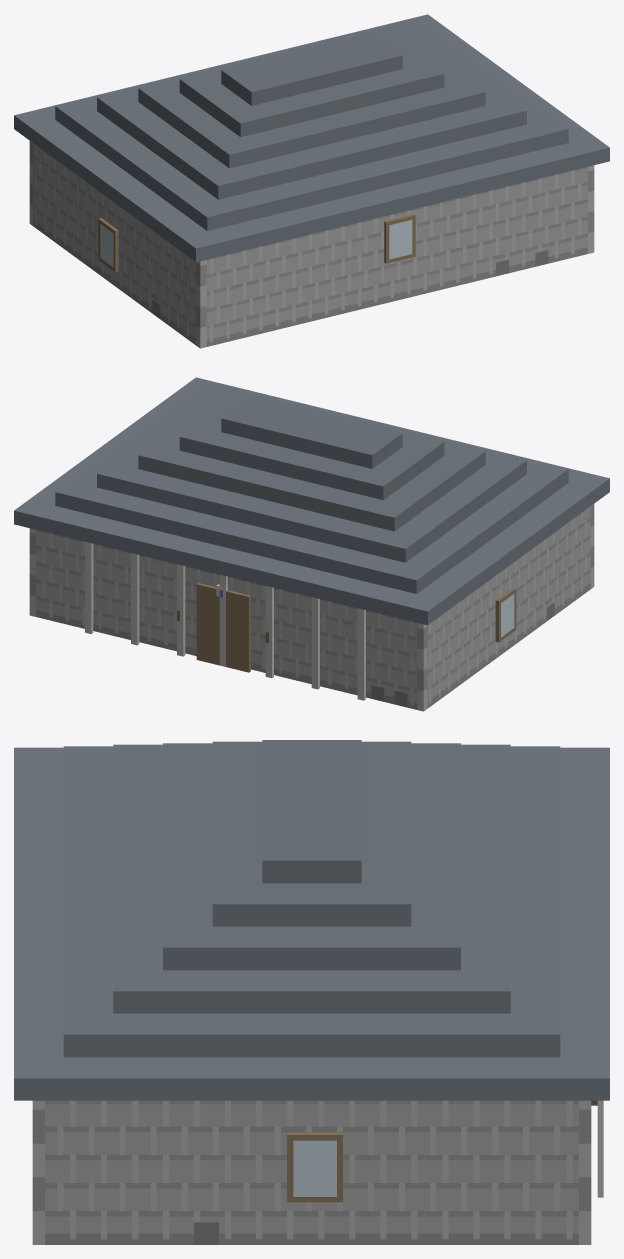
Rendered from banos_comunales_04.glb.
The picture shows the model from 3 angles, top to bottom: view 1: azimuth 30°, elevation 25°; view 2: azimuth 150°, elevation 25°; view 3: azimuth 270°, elevation 25°; orthographic projection. The views are drawn at different scales.
Parts seen in each view (by area): view 1: banos_comunales_04; view 2: banos_comunales_04; view 3: banos_comunales_04.
Part boxes in pixels (left/top/right/bottom): banos_comunales_04: left=14, top=14, right=609, bottom=348; banos_comunales_04: left=14, top=377, right=609, bottom=711; banos_comunales_04: left=14, top=740, right=609, bottom=1244.
Size of the model in its own units: 12.6 by 5.1 by 9.6.
